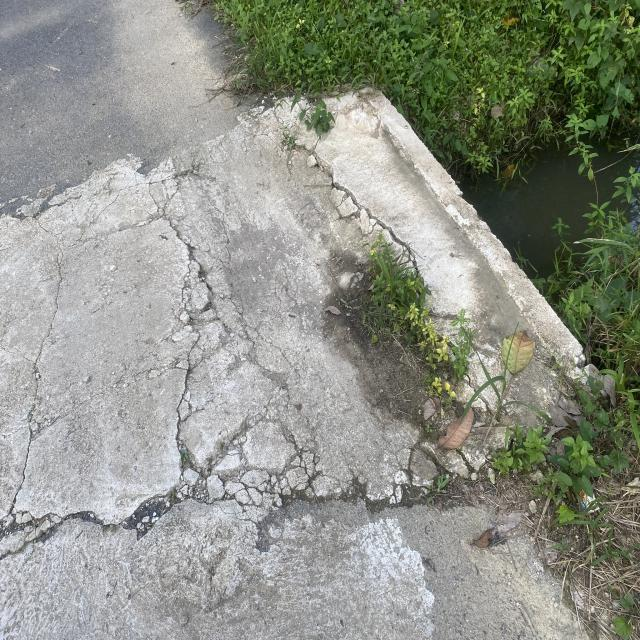pothole: (276, 114, 448, 365), (126, 156, 241, 530)
